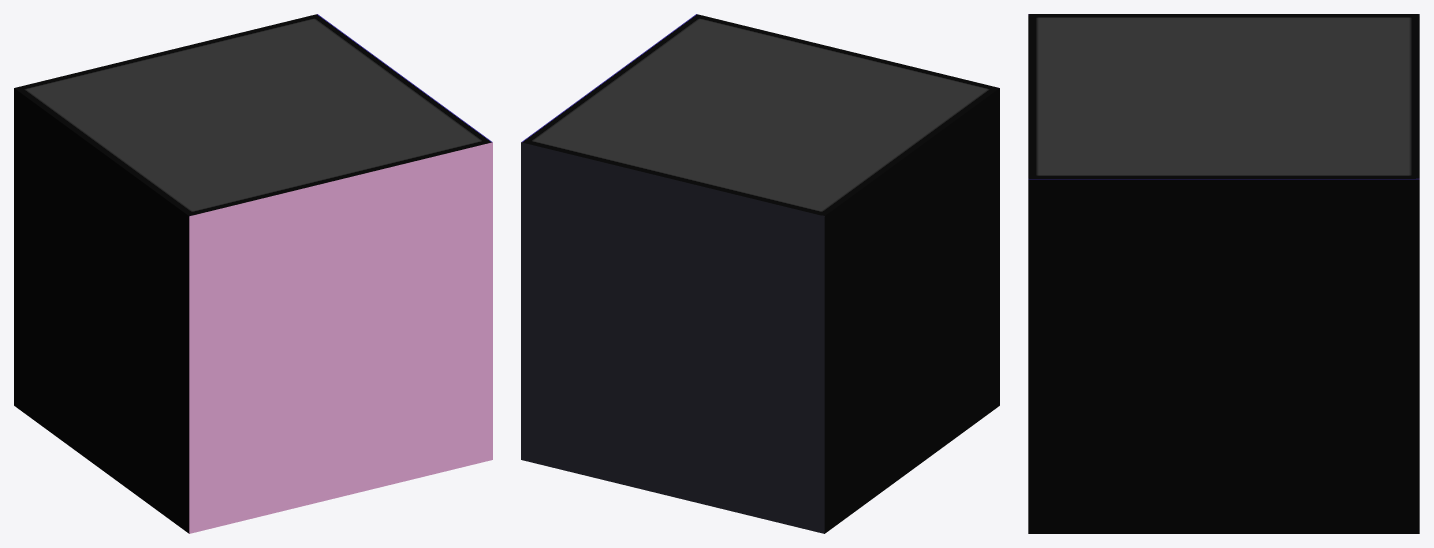
The model's file is meshlib.glb.
The picture shows the model from 3 angles, left to right: view 1: azimuth 30°, elevation 25°; view 2: azimuth 150°, elevation 25°; view 3: azimuth 270°, elevation 25°; orthographic projection. The views are drawn at different scales.
Visible parts, largest first — view 1: floor_cube, ramp_1, ramp_2; view 2: floor_cube, ramp_2, ramp_1; view 3: floor_cube, ramp_2.
Boxes of the visible parts, left/top/right/bottom form: floor_cube: left=14, top=14, right=492, bottom=533; ramp_1: left=14, top=247, right=336, bottom=533; ramp_2: left=249, top=240, right=492, bottom=457; floor_cube: left=521, top=14, right=999, bottom=533; ramp_2: left=521, top=216, right=824, bottom=533; ramp_1: left=613, top=247, right=999, bottom=533; floor_cube: left=1028, top=14, right=1419, bottom=533; ramp_2: left=1028, top=360, right=1419, bottom=533.
Bounding box in the file's own units: 1 × 1 × 1.
1 material, 1 textured.
